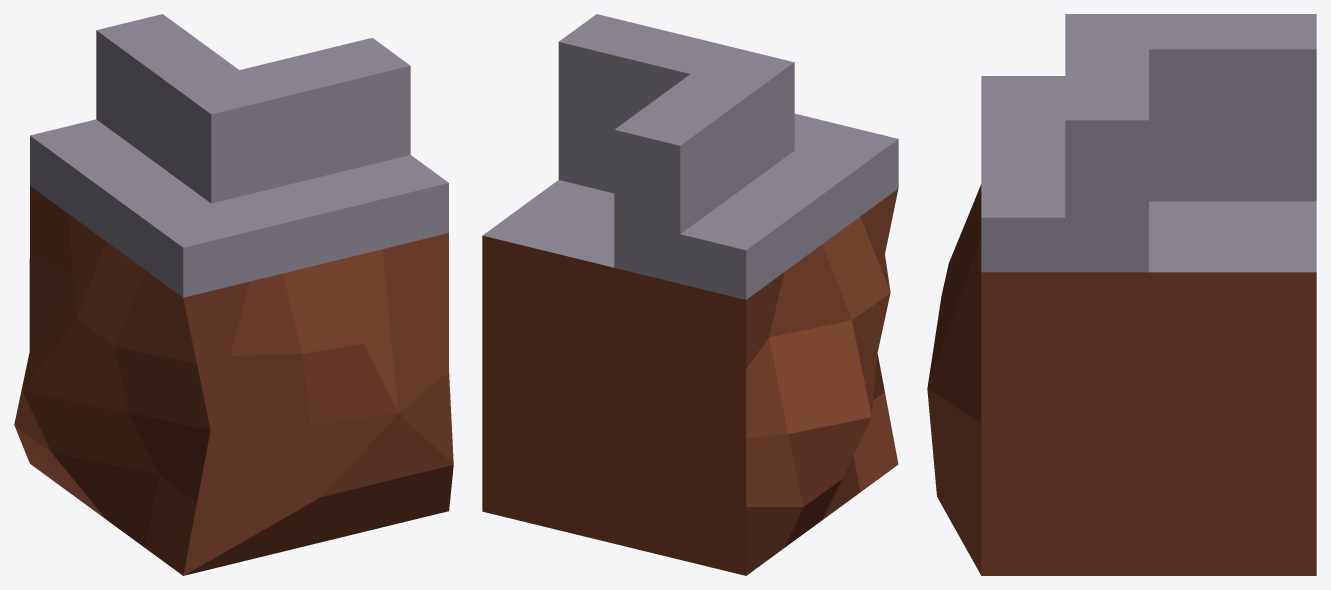
File: TopCorner.fbx
3 views of the same model, side by side, from view 1: azimuth 30°, elevation 25°; view 2: azimuth 150°, elevation 25°; view 3: azimuth 270°, elevation 25° (orthographic). The views are drawn at different scales.
Visible parts, largest first — view 1: Cube.001; view 2: Cube.001; view 3: Cube.001.
Boxes of the visible parts, x1,y1,x2,y2 form: Cube.001: [14, 14, 453, 575]; Cube.001: [482, 14, 898, 575]; Cube.001: [927, 14, 1316, 575].
Bounding box in the file's own units: 250 × 300 × 232.
